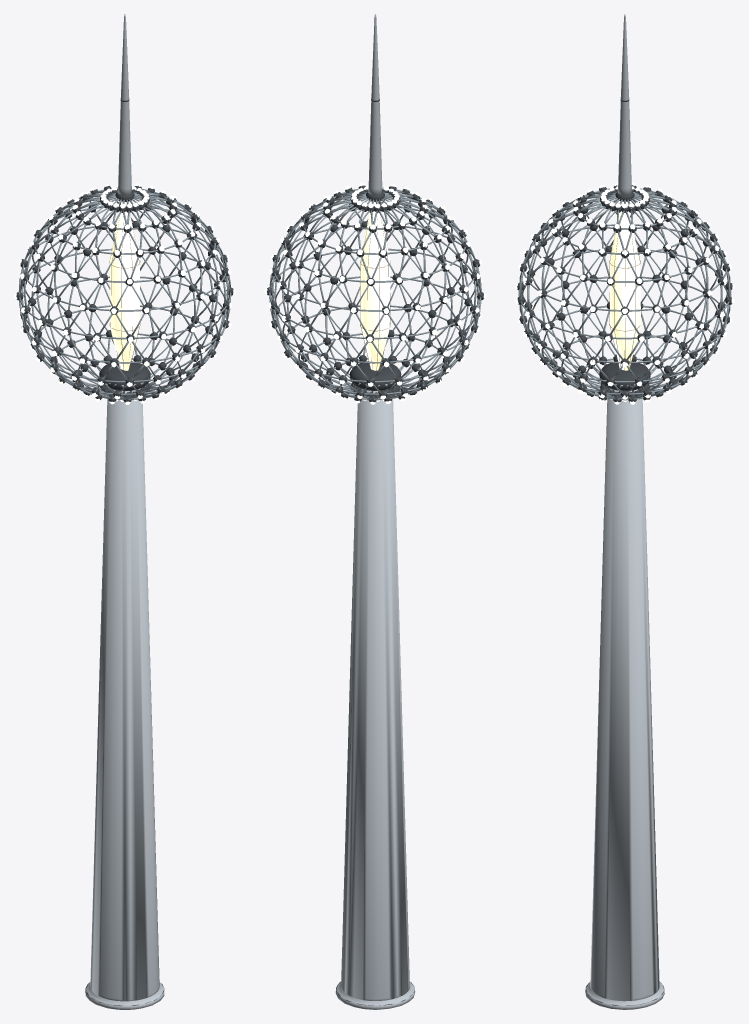
File: canruo_star_lamp_lowglow_LOD1.glb
3 renders of one model, left to right at view 1: azimuth 30°, elevation 25°; view 2: azimuth 150°, elevation 25°; view 3: azimuth 270°, elevation 25°, orthographic.
Visible parts, largest first — view 1: Tapered_Column_LOD1, Cage_Diagonals_LOD1, LED_Housings_LOD1, Cage_Latitudes_LOD1, Spindle_Core_LOD1, LED_Lenses_LOD1, Needle_Spire_LOD1, Collar_Lower_LOD1, Pedestal_LOD1; view 2: Tapered_Column_LOD1, Cage_Diagonals_LOD1, LED_Housings_LOD1, Cage_Latitudes_LOD1, Spindle_Core_LOD1, LED_Lenses_LOD1, Needle_Spire_LOD1, Collar_Lower_LOD1, Pedestal_LOD1; view 3: Tapered_Column_LOD1, Cage_Diagonals_LOD1, LED_Housings_LOD1, Cage_Latitudes_LOD1, Spindle_Core_LOD1, LED_Lenses_LOD1, Needle_Spire_LOD1, Collar_Lower_LOD1, Pedestal_LOD1.
Boxes of the visible parts, x1,y1,x2,y2 form: Tapered_Column_LOD1: (90, 388, 159, 1001); Cage_Diagonals_LOD1: (18, 188, 230, 399); LED_Housings_LOD1: (16, 185, 233, 402); Cage_Latitudes_LOD1: (19, 187, 231, 400); Spindle_Core_LOD1: (110, 201, 139, 370); LED_Lenses_LOD1: (14, 183, 235, 404); Needle_Spire_LOD1: (117, 14, 132, 195); Collar_Lower_LOD1: (99, 361, 150, 390); Pedestal_LOD1: (85, 982, 164, 1009); Tapered_Column_LOD1: (341, 389, 409, 1000); Cage_Diagonals_LOD1: (269, 188, 481, 399); LED_Housings_LOD1: (267, 185, 483, 402); Cage_Latitudes_LOD1: (269, 187, 481, 400); Spindle_Core_LOD1: (360, 202, 390, 370); LED_Lenses_LOD1: (264, 183, 486, 404); Needle_Spire_LOD1: (368, 14, 382, 195); Collar_Lower_LOD1: (349, 361, 401, 390); Pedestal_LOD1: (335, 981, 415, 1009); Tapered_Column_LOD1: (590, 388, 659, 1001); Cage_Diagonals_LOD1: (519, 189, 730, 399); LED_Housings_LOD1: (517, 185, 732, 402); Cage_Latitudes_LOD1: (518, 188, 731, 400); Spindle_Core_LOD1: (610, 201, 640, 370); LED_Lenses_LOD1: (515, 182, 734, 404); Needle_Spire_LOD1: (617, 14, 632, 195); Collar_Lower_LOD1: (599, 361, 650, 390); Pedestal_LOD1: (585, 982, 664, 1009).
Bounding box in the file's own units: 2.03 × 9.98 × 2.03.
